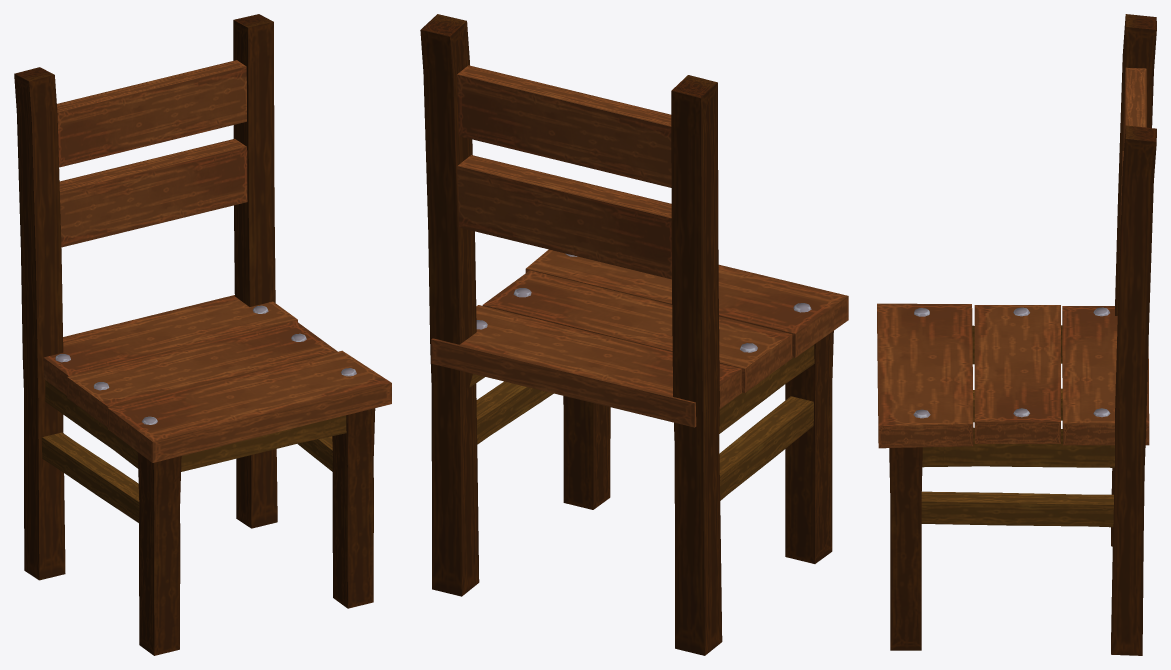
Rendered from Chair_1.gltf.
3 renders of one model, left to right at view 1: azimuth 30°, elevation 25°; view 2: azimuth 150°, elevation 25°; view 3: azimuth 270°, elevation 25°, orthographic. The views are drawn at different scales.
Visible parts, largest first — view 1: Chair_1; view 2: Chair_1; view 3: Chair_1.
Part boxes in pixels (left/top/right/bottom): Chair_1: left=14, top=14, right=391, bottom=655; Chair_1: left=420, top=14, right=848, bottom=655; Chair_1: left=877, top=14, right=1156, bottom=655.
Bounding box in the file's own units: 0.5805 × 1.12 × 0.5489.
2 materials, 2 textured.
